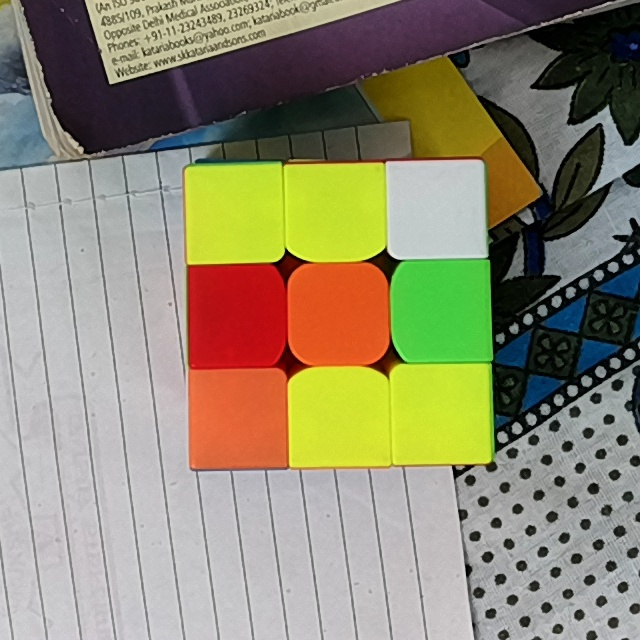tile: (396, 370, 487, 457), (392, 165, 482, 251), (402, 266, 487, 357), (193, 376, 282, 460), (191, 170, 277, 255), (294, 378, 383, 460), (289, 170, 380, 249), (194, 271, 277, 354), (297, 274, 381, 354)
